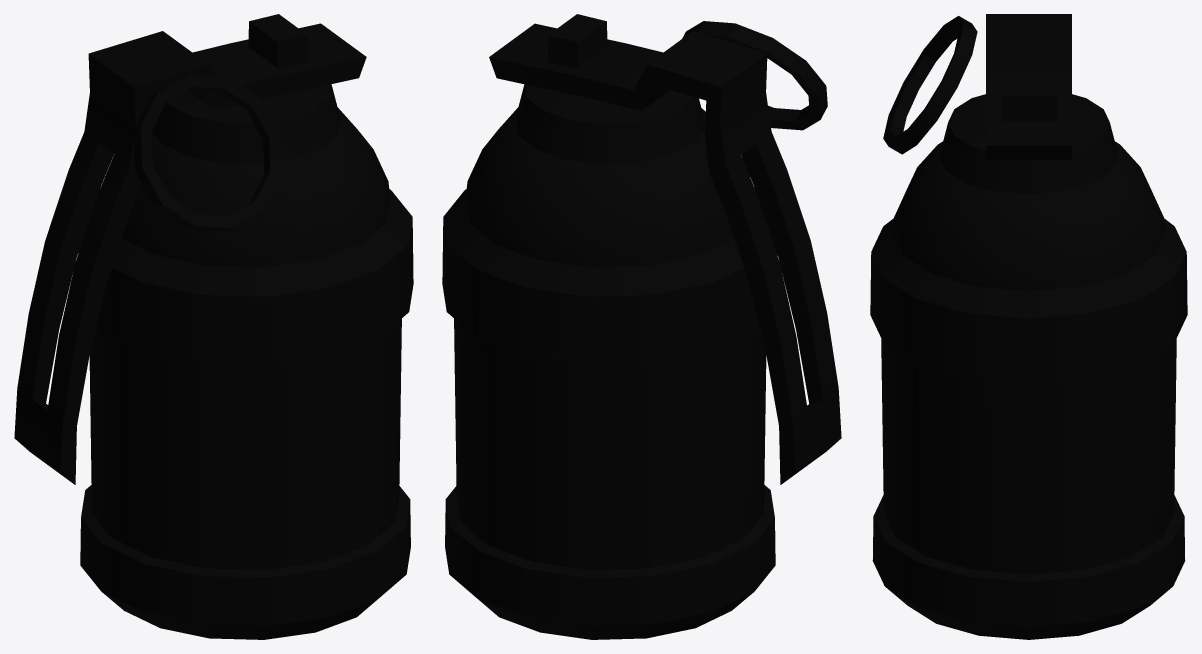
3 renders of one model, left to right at view 1: azimuth 30°, elevation 25°; view 2: azimuth 150°, elevation 25°; view 3: azimuth 270°, elevation 25°, orthographic. The views are drawn at different scales.
Parts seen in each view (by area): view 1: incendiary; view 2: incendiary; view 3: incendiary.
Boxes of the visible parts, left/top/right/bottom form: incendiary: left=14, top=14, right=413, bottom=639; incendiary: left=442, top=14, right=841, bottom=639; incendiary: left=870, top=14, right=1187, bottom=639.
Size of the model in its own units: 0.0858 by 0.128 by 0.0709.
Materials: 1 (1 with a texture image).
